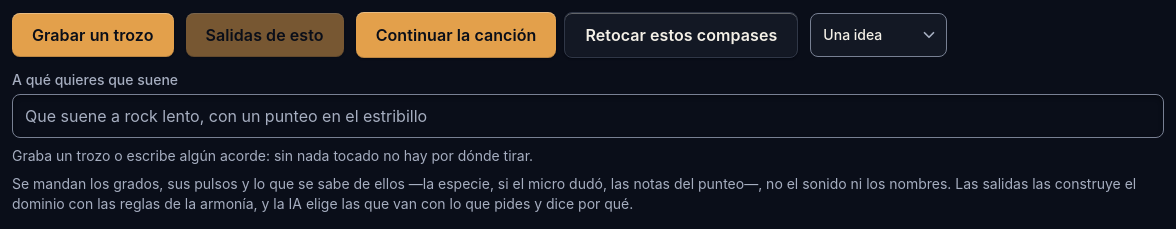
Test case: grabar y volver a escucharlo › con una entrada que no sabe grabar, todo sigue funcionando
Click the button "Grabar un trozo": [93, 35] box [12, 13, 174, 57]
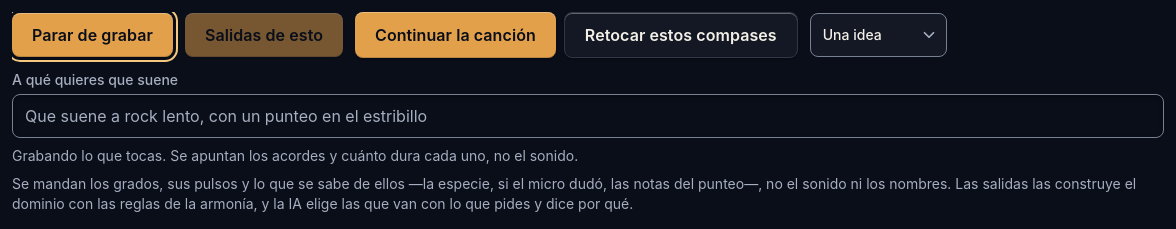
Expected: the button "Parar de grabar" is shown, [12, 13, 173, 57]
